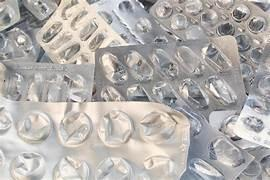pill_Strip: (0, 99, 188, 178), (36, 0, 125, 63), (0, 60, 93, 101)
